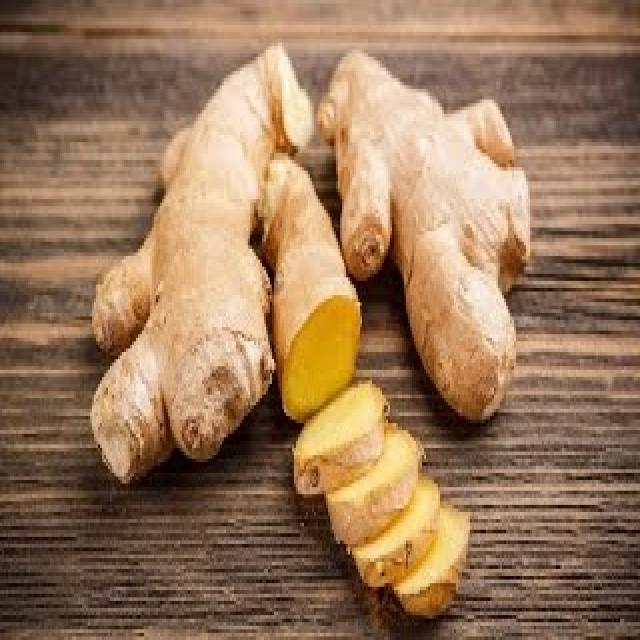ginger-root: (312, 43, 544, 455)
